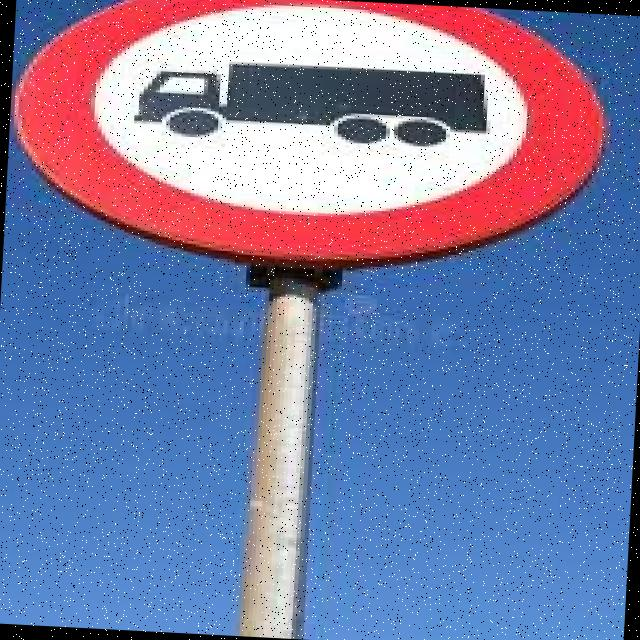do_not_enter: (2, 0, 632, 298)
